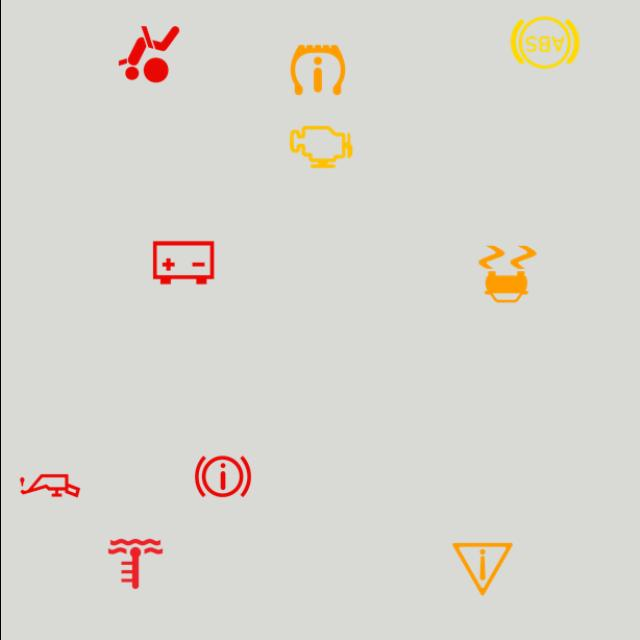Anti Lock Braking System: (506, 5, 582, 80)
Braking System Issue: (184, 439, 260, 514)
Charging System Issue: (145, 225, 220, 300)
Check Engine: (282, 110, 358, 184)
Electronic Stability Problem -ESP-: (469, 236, 544, 312)
Engine Overheating Warning Light: (97, 526, 172, 602)
Low Engine Oil Warning Light: (12, 448, 86, 523)
Low Tire Pressure Warning Light: (280, 32, 354, 108)
Master warning light: (444, 532, 519, 606)
SRS-Airbag: (110, 17, 186, 92)
